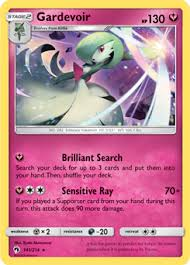gardevoir: (17, 27, 167, 124)
